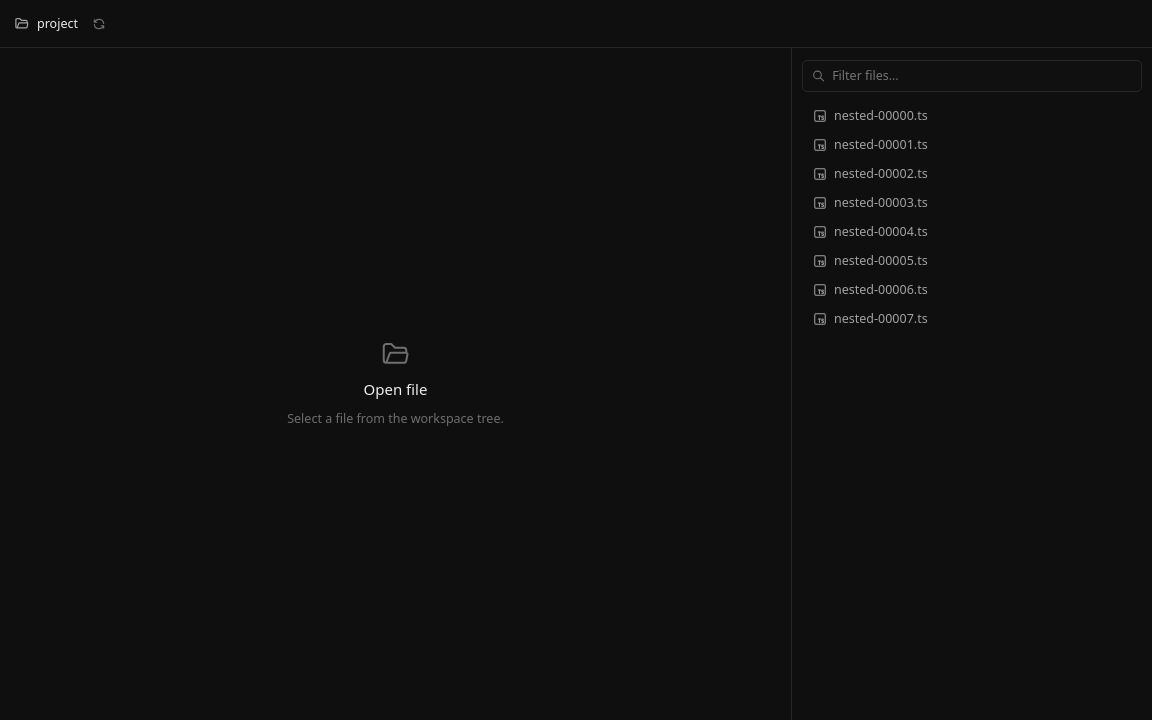
Test: WorkspaceFiles tree virtualization › virtualizes at the 200-row boundary
Type "00199" into the field named "Filter workspace files". click: coordinates (982, 76)
box: [832, 66, 1132, 86]
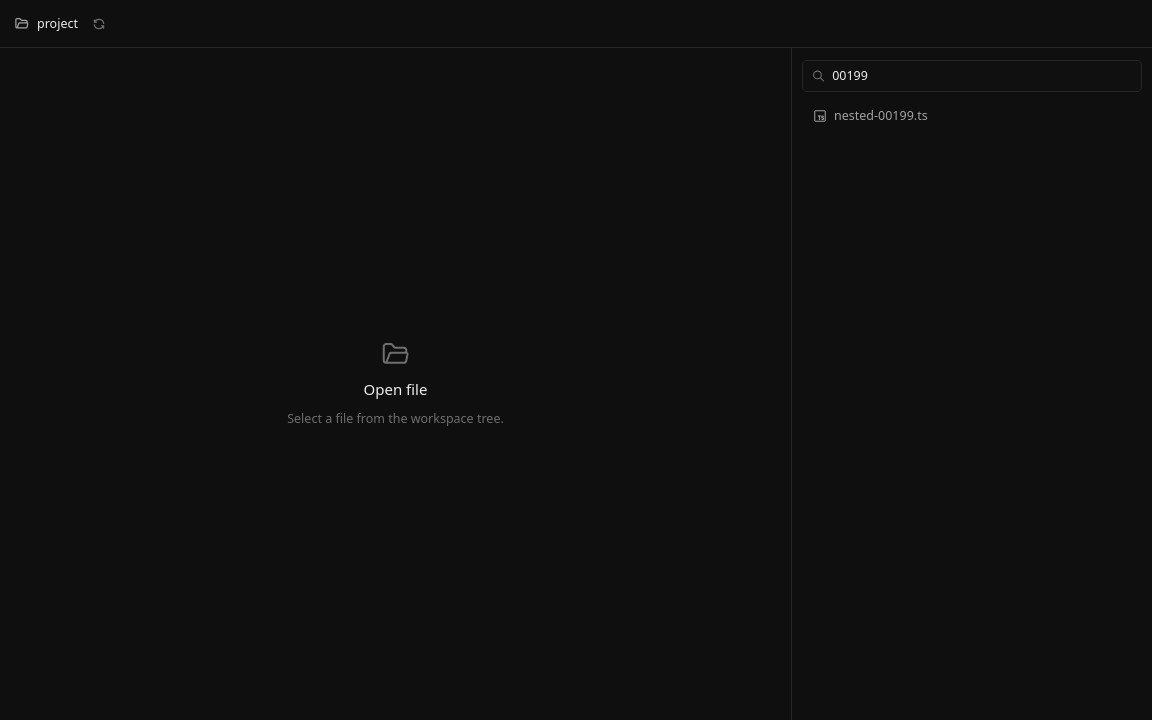
Expected: the button titled "src/nested-00199.ts" is shown, [800, 101, 1144, 130]
